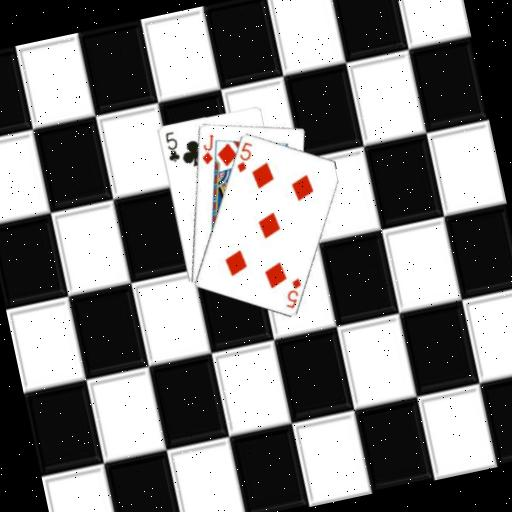5C: (159, 128, 181, 164)
5D: (228, 136, 258, 174), (277, 274, 307, 312)
JD: (193, 130, 220, 167)
